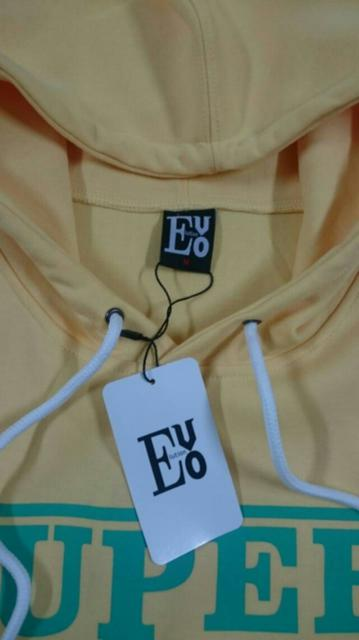Tops: (3, 1, 357, 640)
